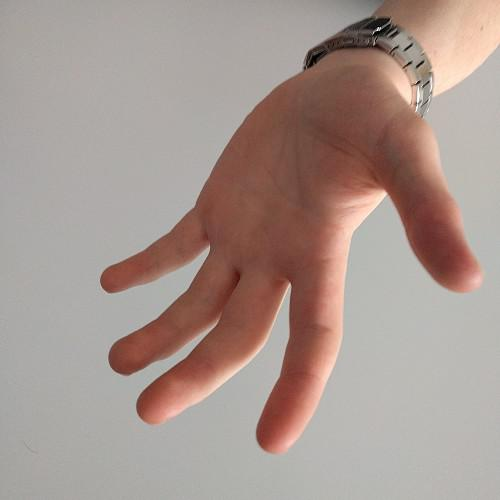paper: (86, 82, 487, 462)
